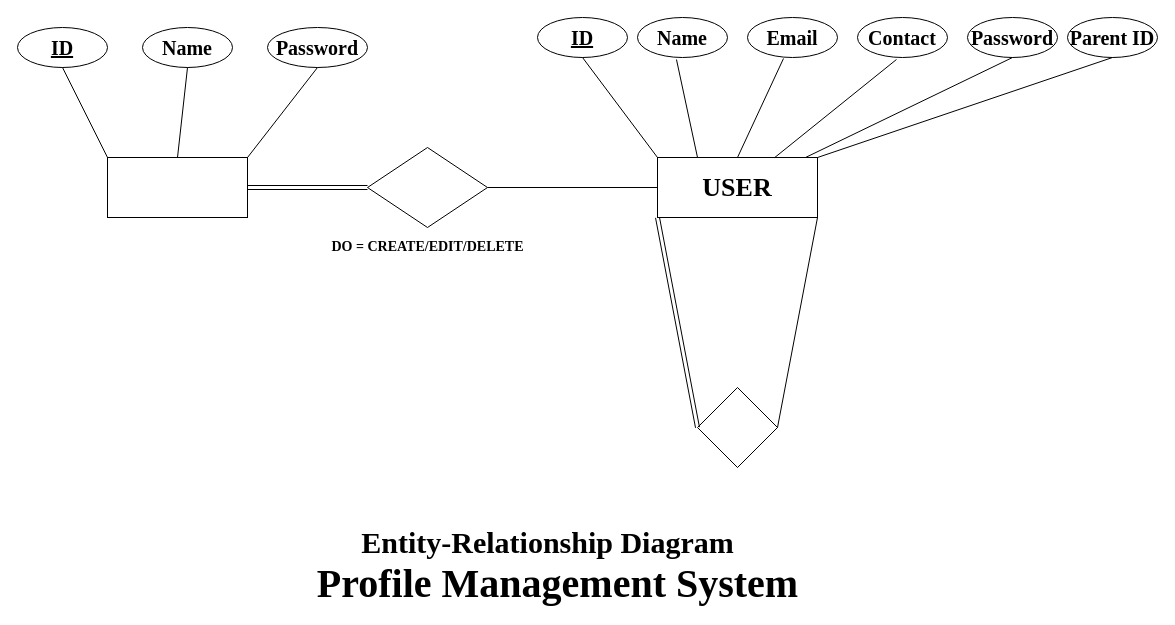
This 1175x625 diagram has some shape labels left out. Each missing label, with the centre of its shape:
ADMIN: pixel 177 187
CAN DO: pixel 427 187
Can Have: pixel 737 427
